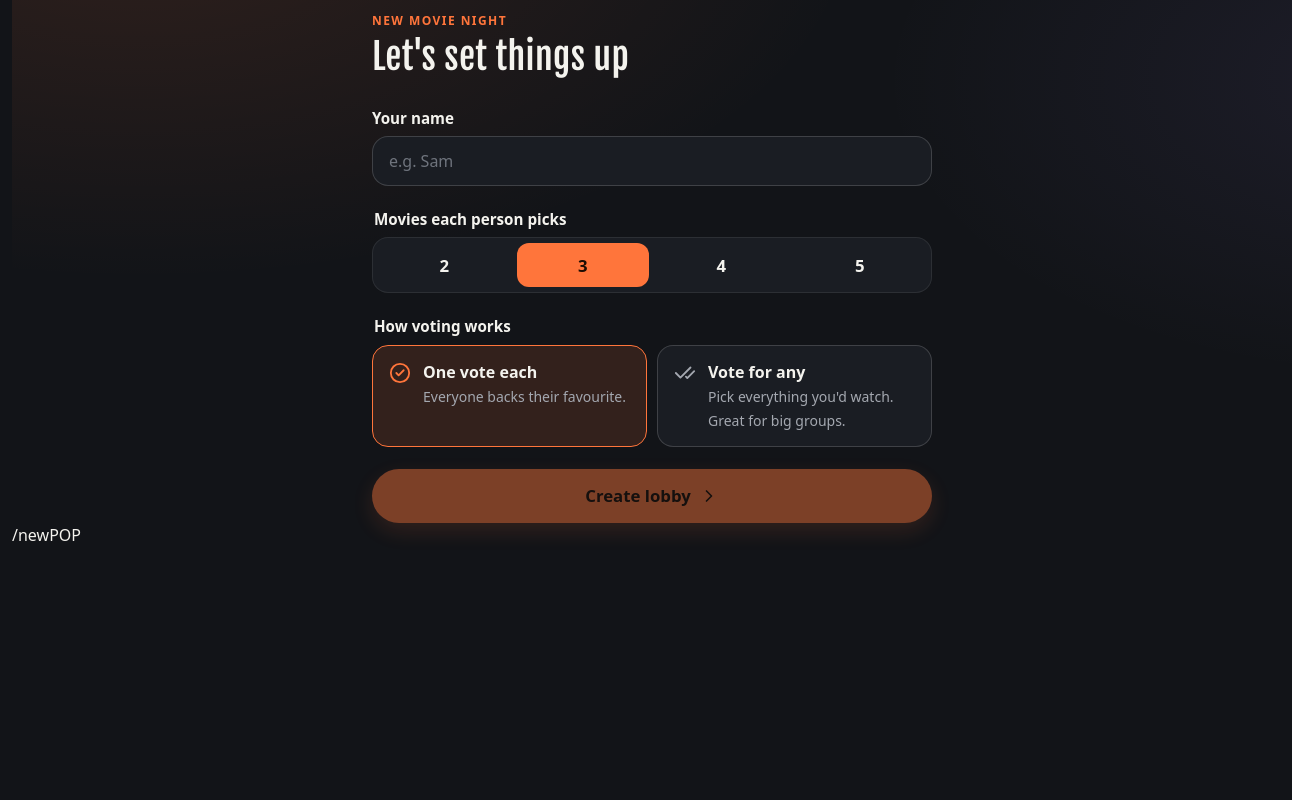
NewLobbyPage › creates a lobby with the chosen settings and the host's name
Expected: the button "Create lobby" is disabled, [372,468,932,522]
Type "Hana" into the field labelled "Your name" at coordinates (652, 161), box [372,136,932,186]
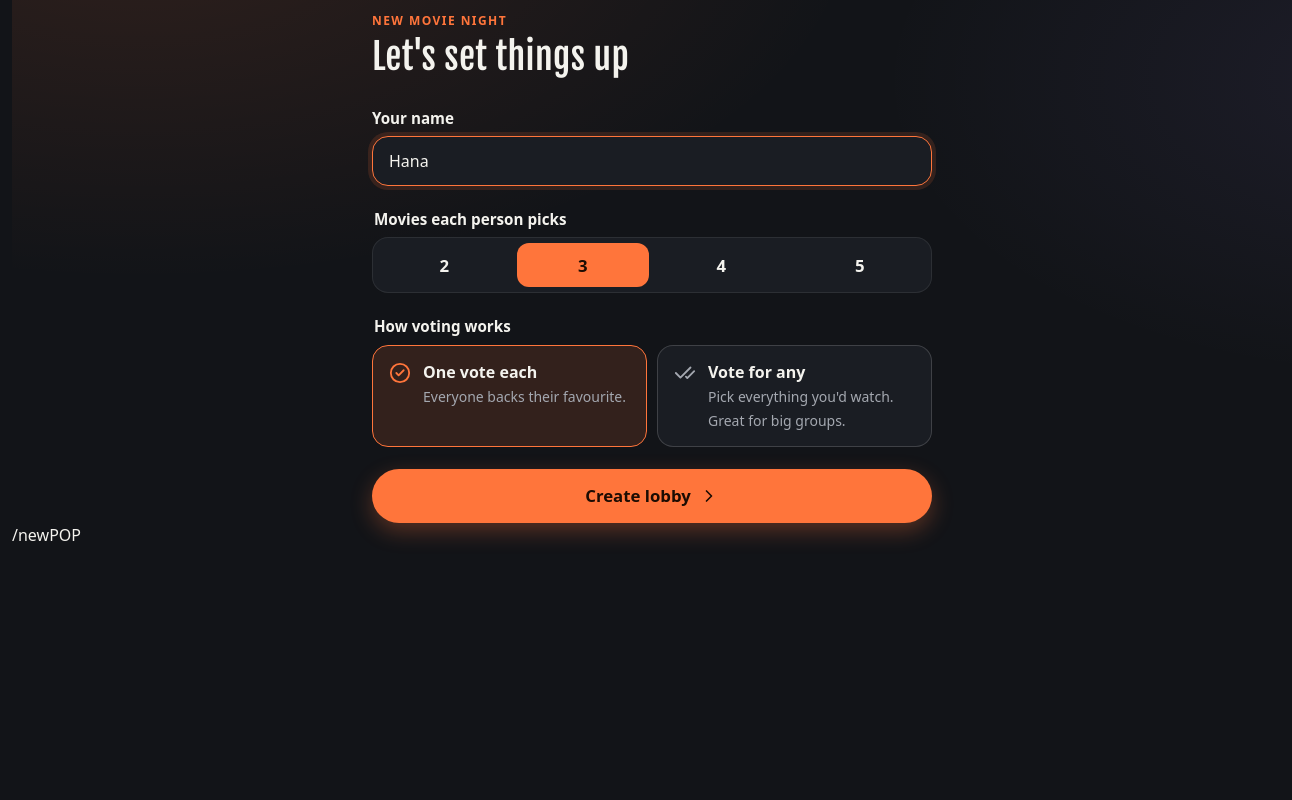
Click the radio button labelled "5" at coordinates (860, 265), box [855,254,864,277]
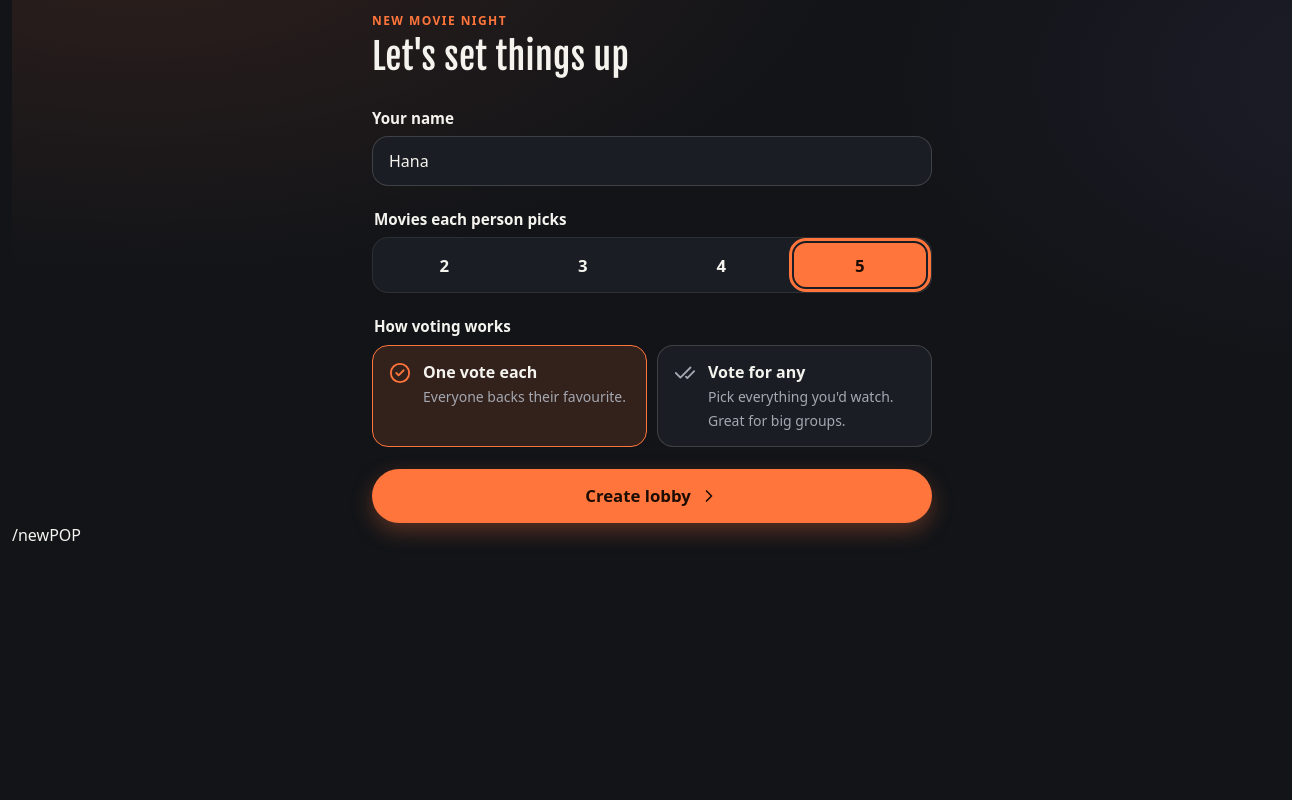
Click the radio button labelled "Vote for any" at coordinates (794, 396), box [657,344,932,446]
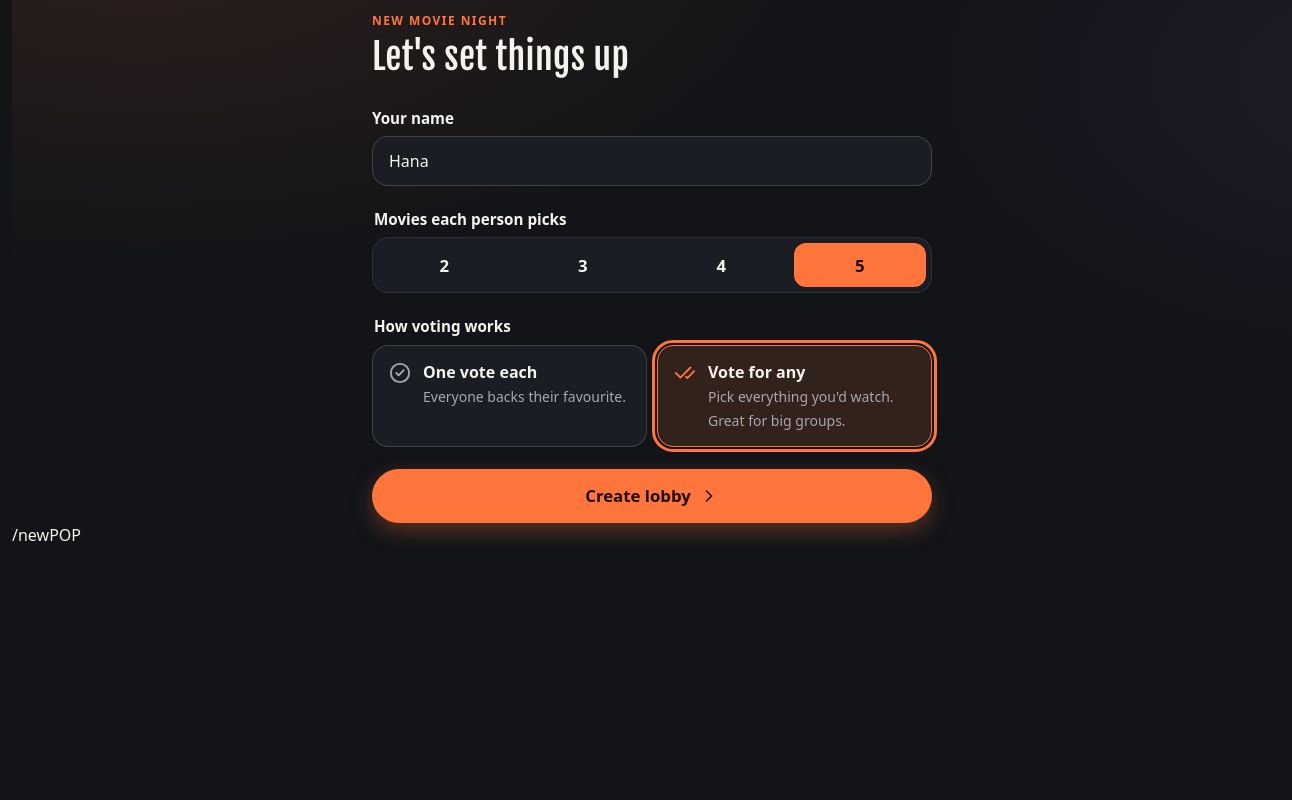
Click the button "Create lobby" at coordinates (652, 496), box [372,468,932,522]
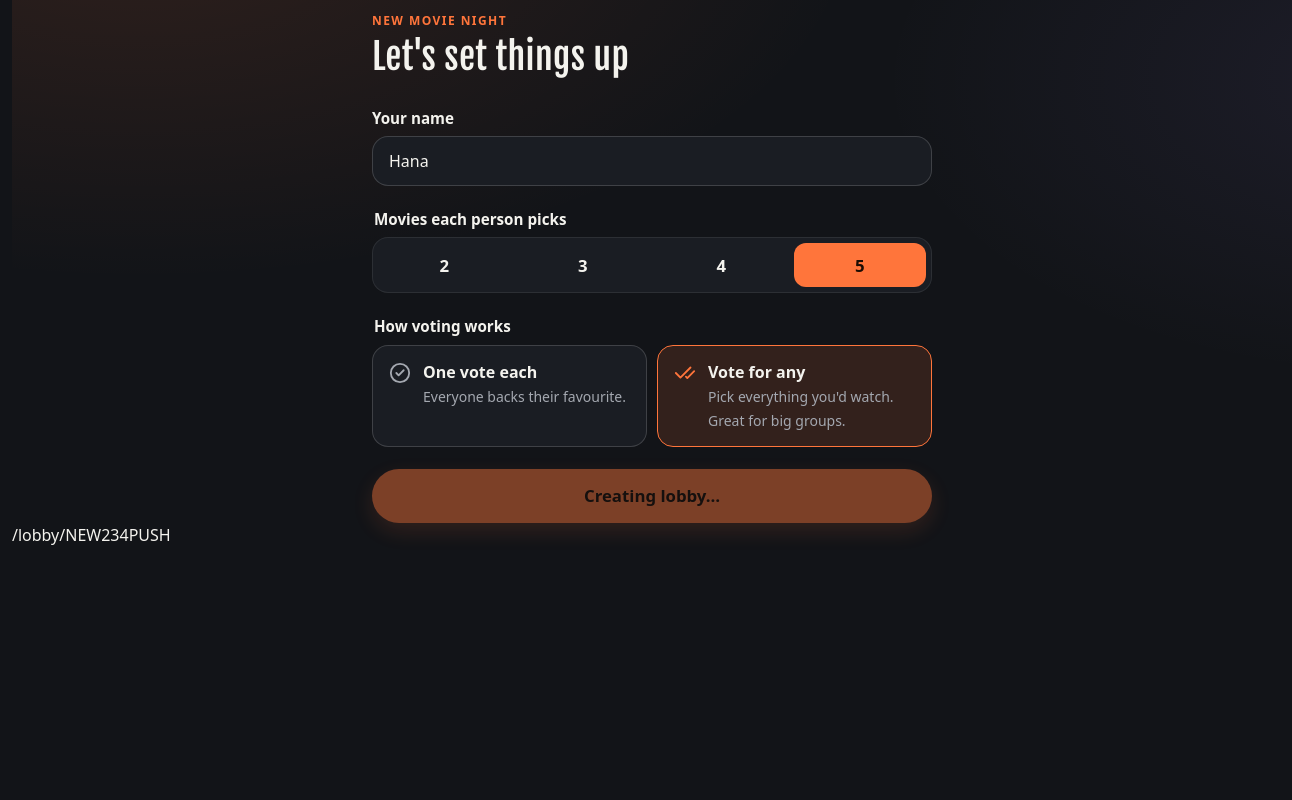
Expected: the text with test id "location" reads "/lobby/NEW234", [12,524,129,546]
